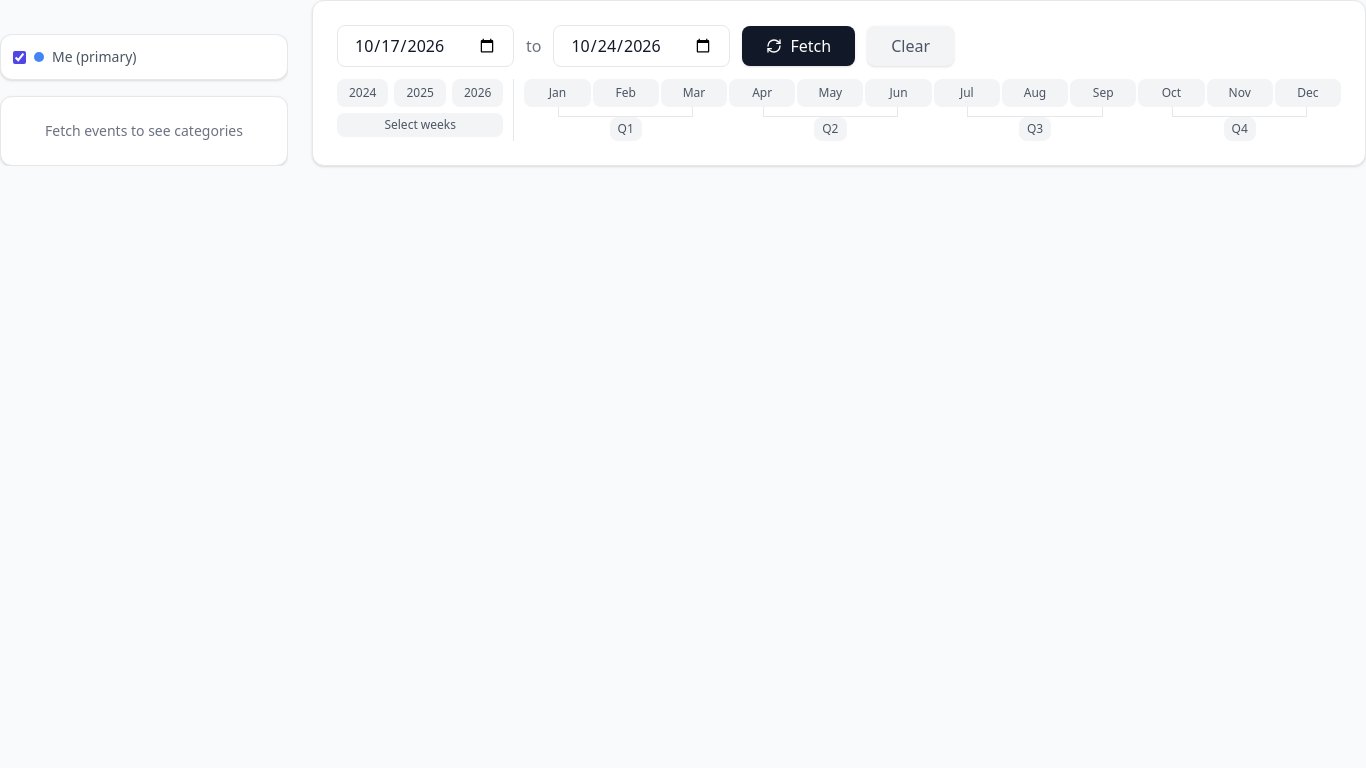
Test case: Dashboard › filters to uncategorized events and to events with no organizer
Click the button "Fetch".
click(799, 46)  # box 742,26 -> 855,66
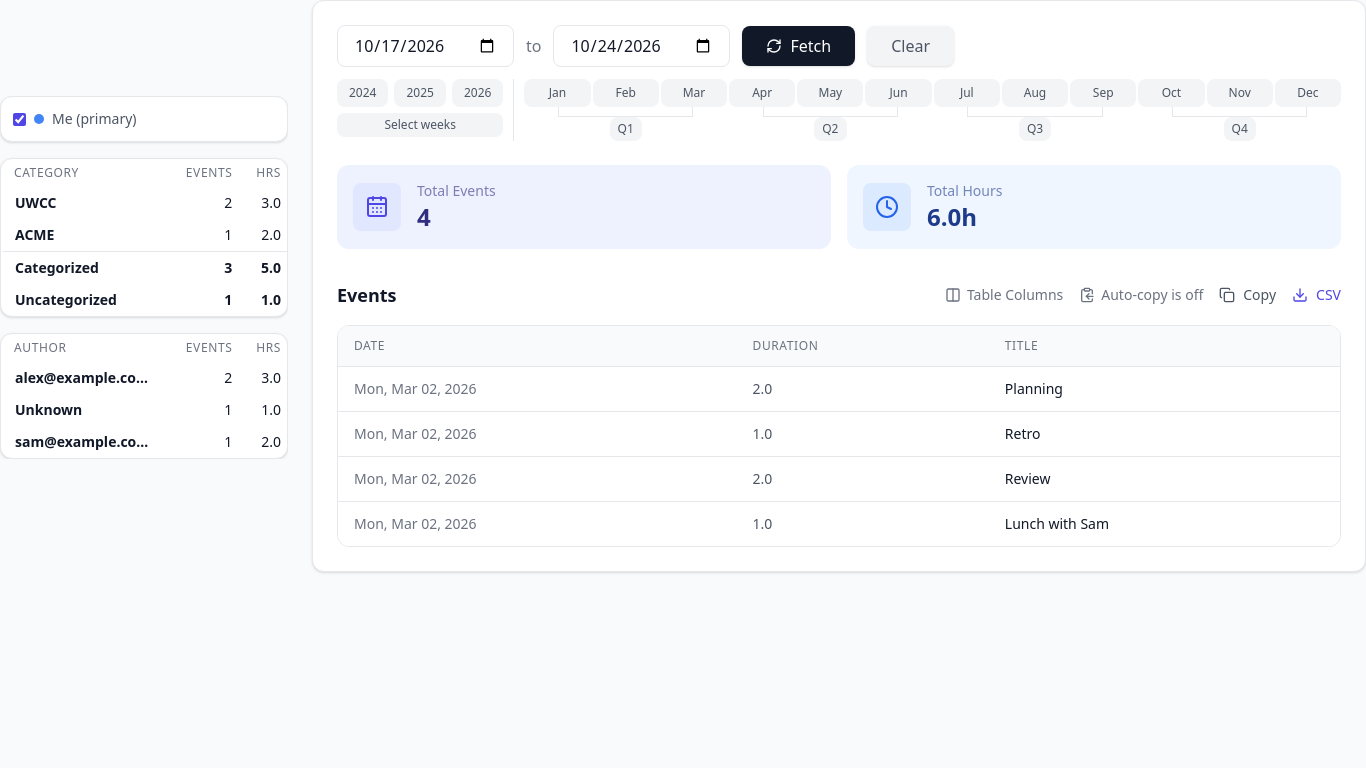
Expected: the text "Planning" is shown, 989,366 -> 1340,412
Click the cell "Uncategorized".
click(81, 300)  # box 2,284 -> 161,316
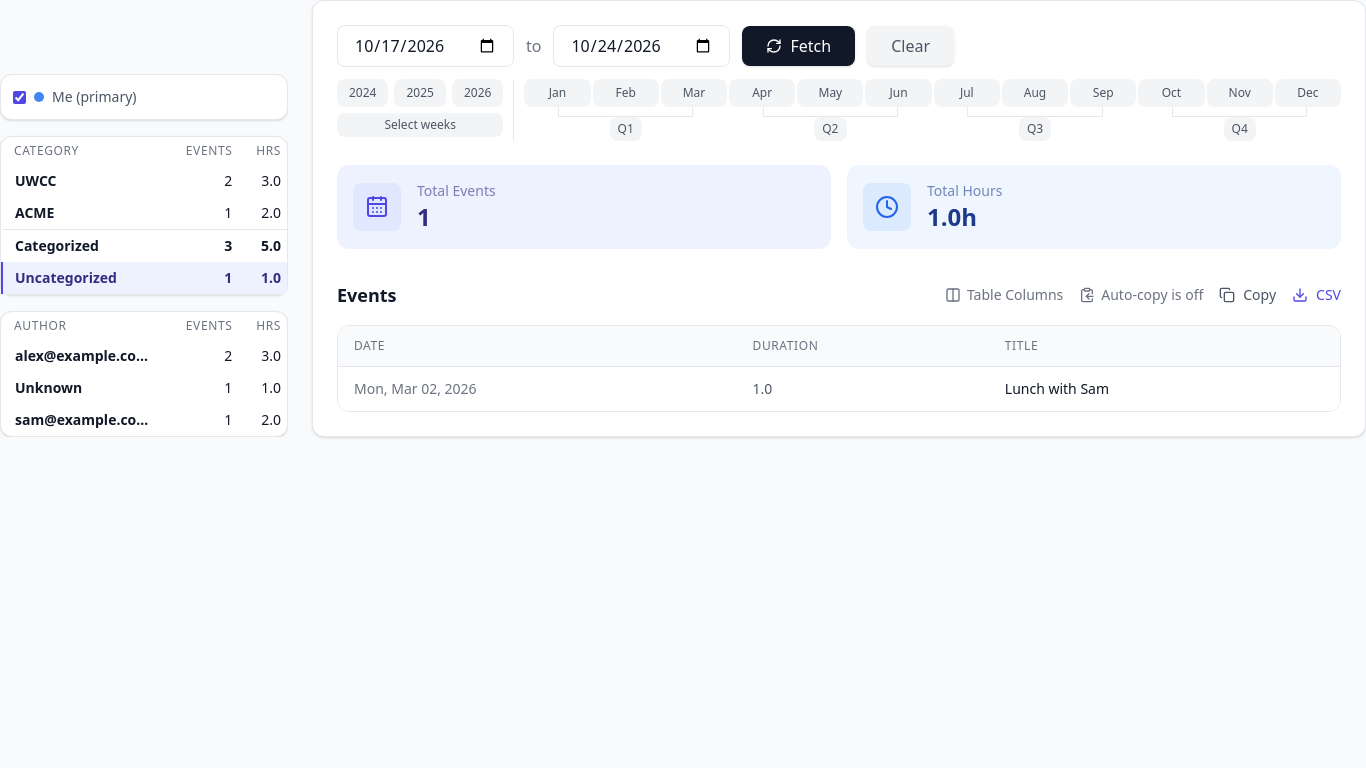
Expected: the text "Lunch with Sam" is shown, 989,366 -> 1340,411
Expected: the text "Planning" is gone
Click the cell "Uncategorized".
click(81, 278)  # box 2,262 -> 161,294
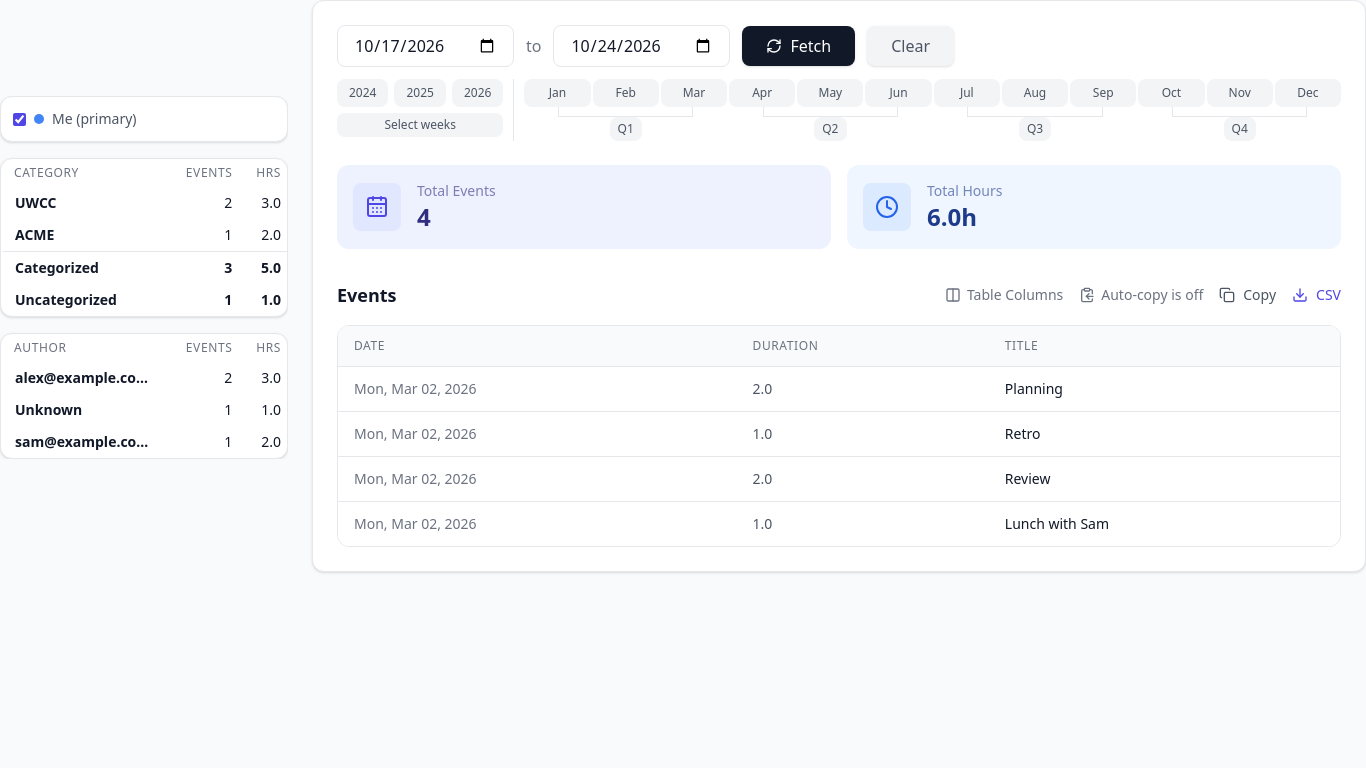
Click the cell "Unknown".
click(81, 410)  # box 2,394 -> 161,426
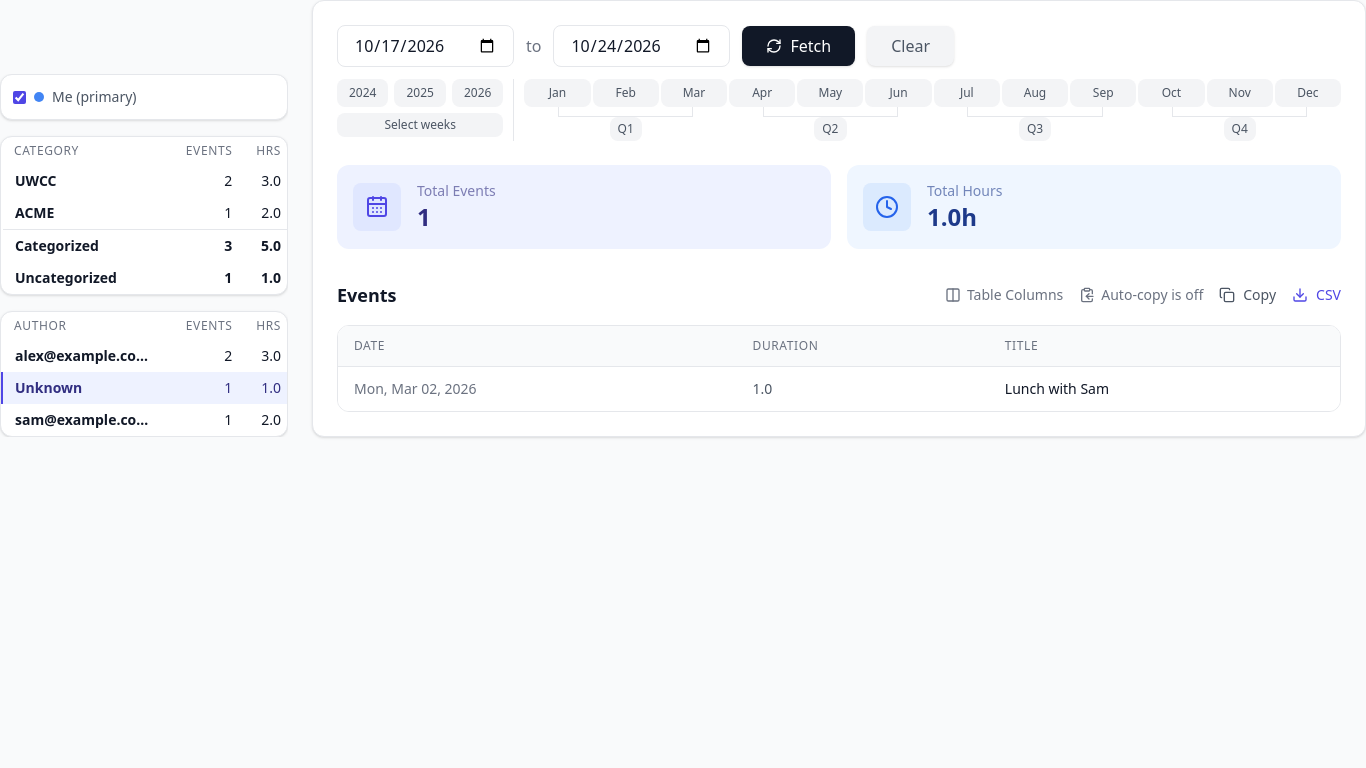
Expected: the text "Lunch with Sam" is shown, 989,366 -> 1340,411
Expected: the text "Review" is gone
